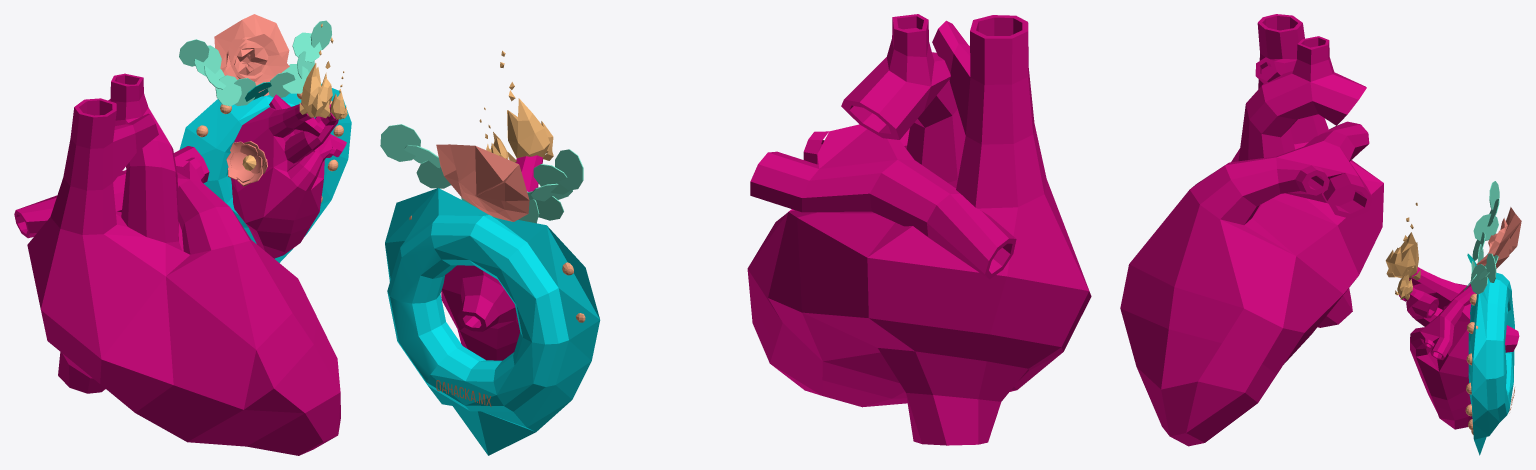
File: oahacka-sierra.gltf
The picture shows the model from 3 angles, left to right: view 1: azimuth 30°, elevation 25°; view 2: azimuth 150°, elevation 25°; view 3: azimuth 270°, elevation 25°; orthographic projection. The views are drawn at different scales.
Parts seen in each view (by area): view 1: Heart, Heart.001, mesh677774601.001, mesh410143615.001, fuego, pCube13, mesh994756808.001, mesh710871717.001, mesh2115928318.001, mesh1427291044.001, mesh1659870527.001, mesh1205645518.001 (+2 smaller); view 2: Heart, mesh677774601.001, Heart.001, mesh410143615.001, fuego, mesh1659870527.001, mesh994756808.001; view 3: Heart, Heart.001, mesh677774601.001, fuego, mesh410143615.001, mesh1873364659.001.
Boxes of the visible parts, bbox=[...] form: Heart: bbox=[14, 73, 340, 455]; Heart.001: bbox=[230, 94, 346, 258]; mesh677774601.001: bbox=[179, 83, 351, 262]; mesh410143615.001: bbox=[214, 14, 289, 96]; fuego: bbox=[299, 23, 347, 119]; pCube13: bbox=[226, 141, 267, 186]; mesh994756808.001: bbox=[179, 39, 209, 66]; mesh710871717.001: bbox=[215, 75, 241, 106]; mesh2115928318.001: bbox=[292, 32, 321, 62]; mesh1427291044.001: bbox=[282, 64, 308, 93]; mesh1659870527.001: bbox=[310, 20, 331, 49]; mesh1205645518.001: bbox=[267, 72, 295, 97]; Heart: bbox=[747, 14, 1091, 445]; mesh677774601.001: bbox=[385, 188, 600, 455]; Heart.001: bbox=[441, 155, 542, 360]; mesh410143615.001: bbox=[436, 144, 529, 221]; fuego: bbox=[479, 50, 553, 162]; mesh1659870527.001: bbox=[380, 124, 420, 161]; mesh994756808.001: bbox=[555, 149, 583, 190]; Heart: bbox=[1120, 14, 1383, 446]; Heart.001: bbox=[1399, 267, 1519, 429]; mesh677774601.001: bbox=[1468, 253, 1514, 455]; fuego: bbox=[1385, 202, 1420, 300]; mesh410143615.001: bbox=[1476, 207, 1521, 268]; mesh1873364659.001: bbox=[1473, 213, 1498, 241].
Bounding box in the file's own units: 4.5 × 3.66 × 3.85.
8 materials, 1 textured.
